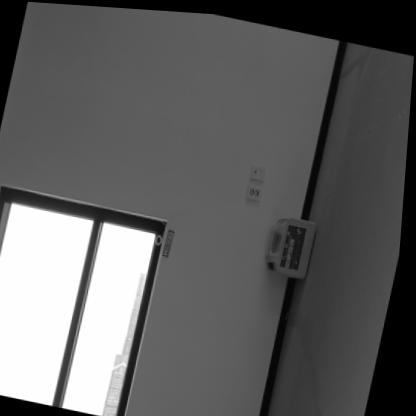DDL: (270, 210, 322, 273)
